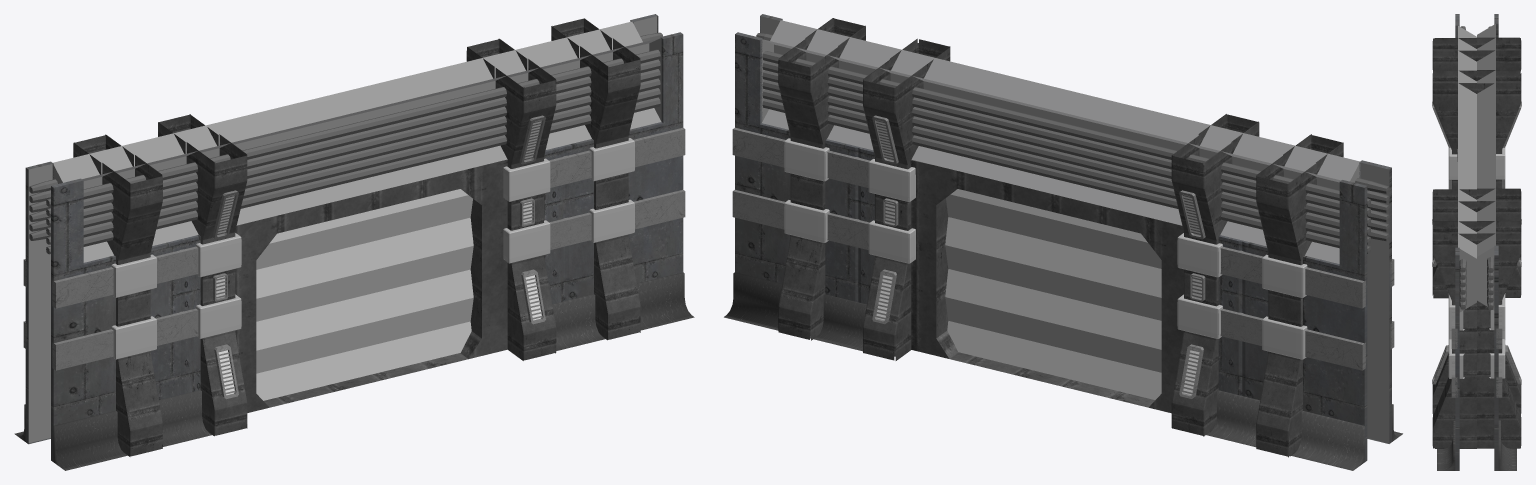
The model's file is Door.fbx.
3 renders of one model, left to right at view 1: azimuth 30°, elevation 25°; view 2: azimuth 150°, elevation 25°; view 3: azimuth 270°, elevation 25°, orthographic. The views are drawn at different scales.
Visible parts, largest first — view 1: Wall.001, Cube, Lights.001; view 2: Wall.001, Cube, Lights.001; view 3: Wall.001, Lights.001.
Part boxes in pixels (x1=…): Wall.001: x1=14, y1=14, x2=694, y2=470; Cube: x1=256, y1=189, x2=473, y2=400; Lights.001: x1=212, y1=115, x2=545, y2=399; Wall.001: x1=724, y1=14, x2=1402, y2=470; Cube: x1=945, y1=189, x2=1161, y2=399; Lights.001: x1=872, y1=115, x2=1205, y2=398; Wall.001: x1=1432, y1=14, x2=1521, y2=470; Lights.001: x1=1432, y1=101, x2=1521, y2=384.
Size of the model in its own units: 3610 by 1500 by 566.
